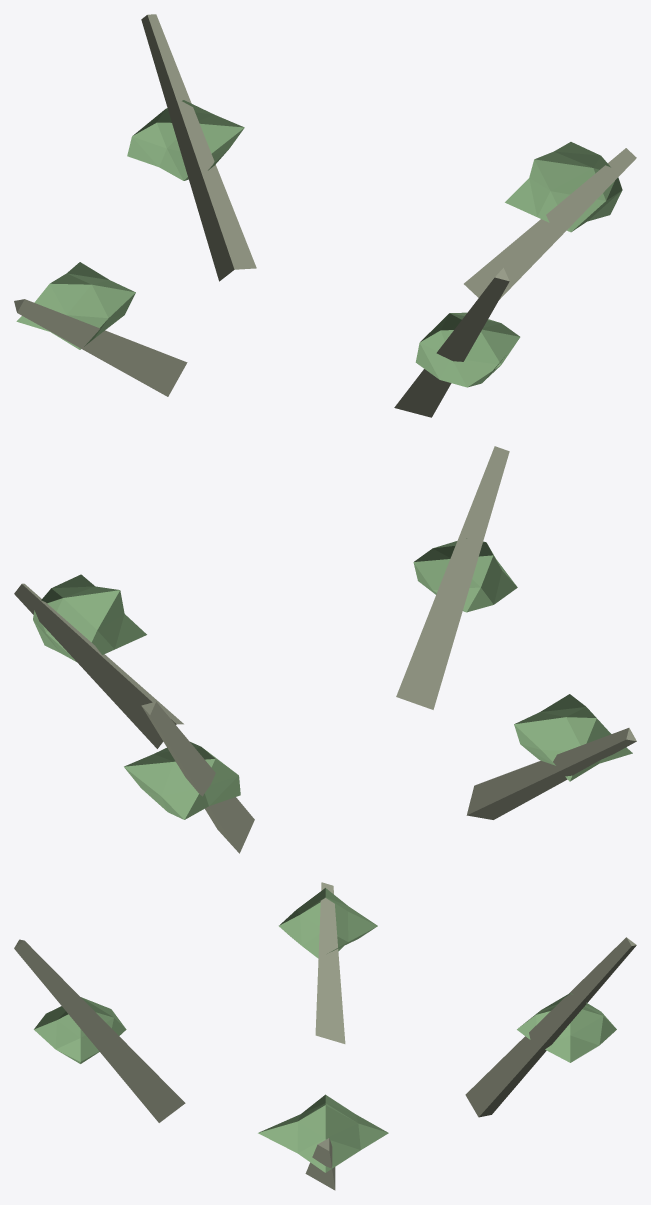
File: bramble_v25.glb
The picture shows the model from 3 angles, top to bottom: view 1: azimuth 30°, elevation 25°; view 2: azimuth 150°, elevation 25°; view 3: azimuth 270°, elevation 25°; orthographic projection. The views are drawn at different scales.
Visible parts, largest first — view 1: lod0; view 2: lod0; view 3: lod0.
Boxes of the visible parts, <box> form: lod0: <box>14,14,636,417</box>; lod0: <box>14,446,636,853</box>; lod0: <box>14,882,636,1190</box>.
Size of what is drawn, in the model's own units: 0.7777 by 0.2535 by 0.7813.
